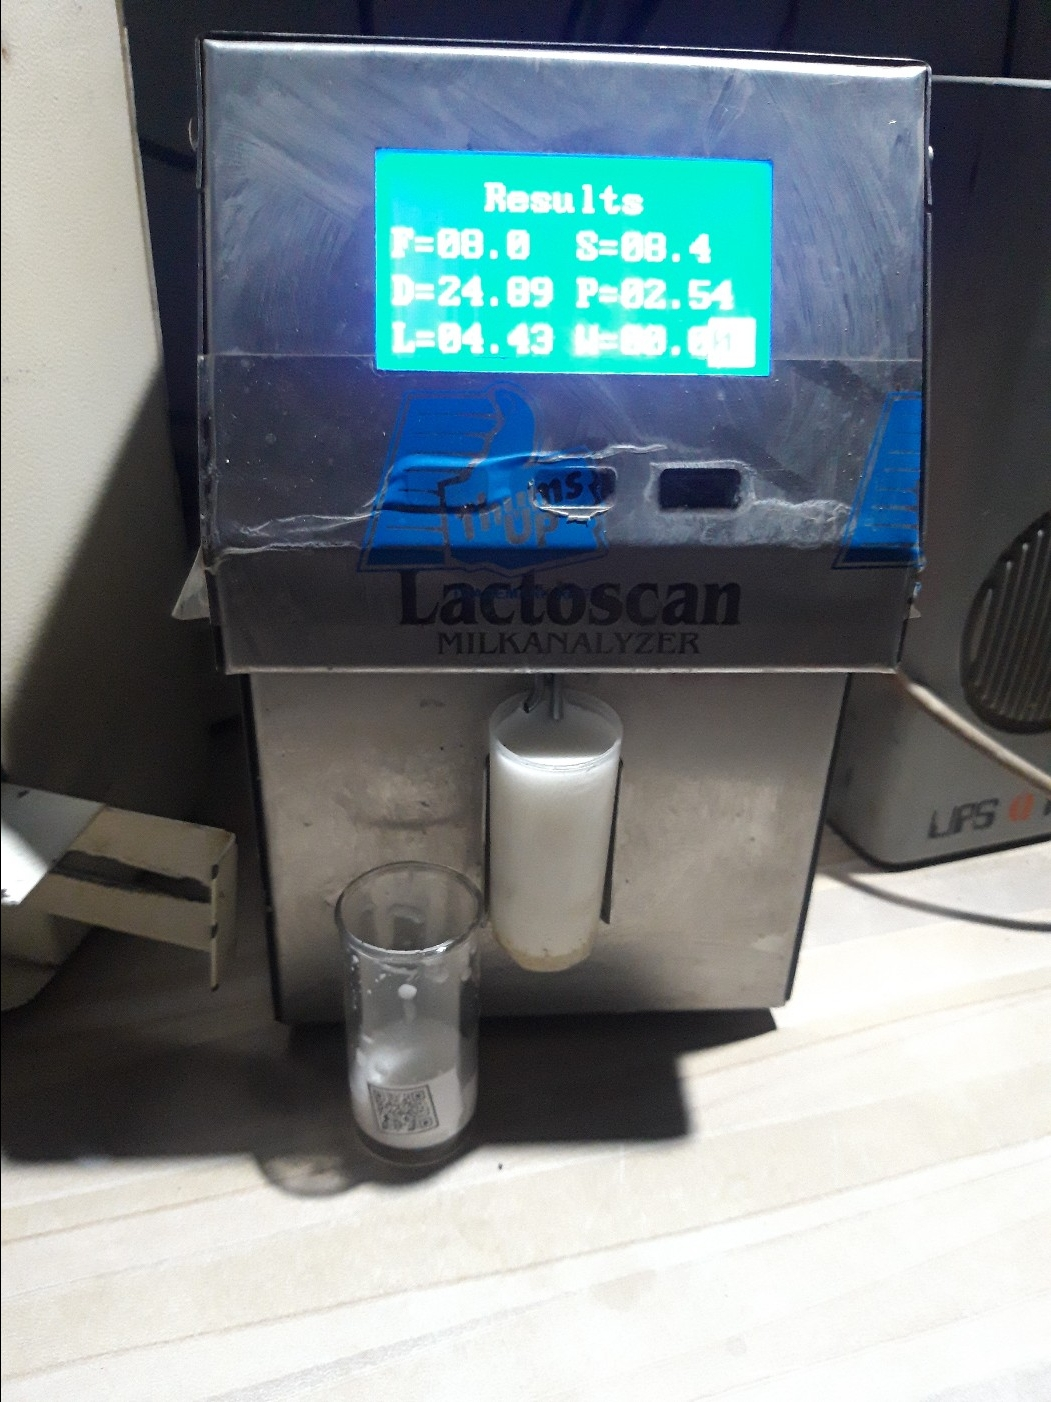lcd: (348, 132, 801, 392)
qr: (355, 1073, 482, 1149)
